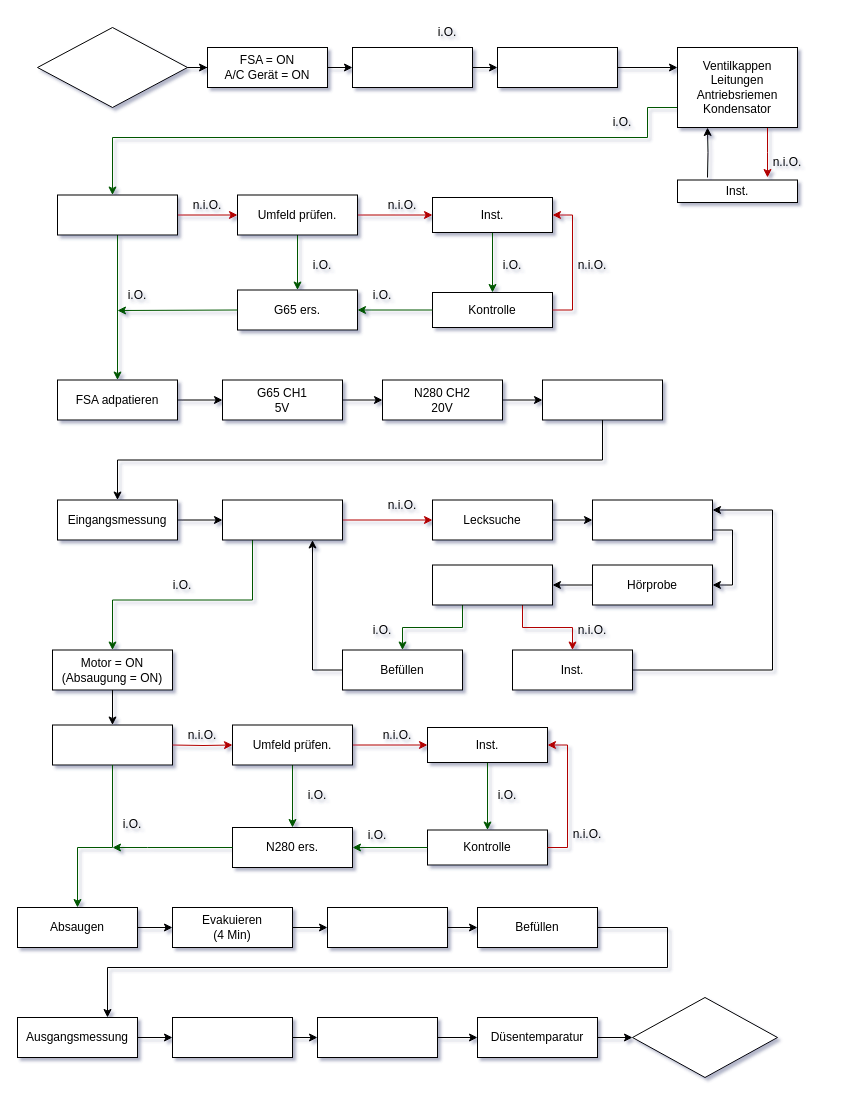
This 841x1101 diagram has some shape labels left out. Here are the shapes that lost their labels. From the top down, the centre of each, then its label:
the point at 112,67: Klimaanlage o.F.
the point at 412,67: A/C Gerät adaptieren
the point at 557,67: SP A/C
the point at 117,214: G65 an Multimeter
the point at 602,399: Kennlinie 30 Min
the point at 282,519: Standhaltedruck
the point at 652,519: Stickstoff füllen (20Bar)
the point at 492,584: SP (Lecksuchspray)
the point at 112,744: N280 an Multimeter
the point at 387,927: Druckanstieg (2 Min)
the point at 232,1037: Motor = ON\ (Absaugung = ON)
the point at 377,1037: Systemdruck
the point at 705,1037: A/C i.O.
